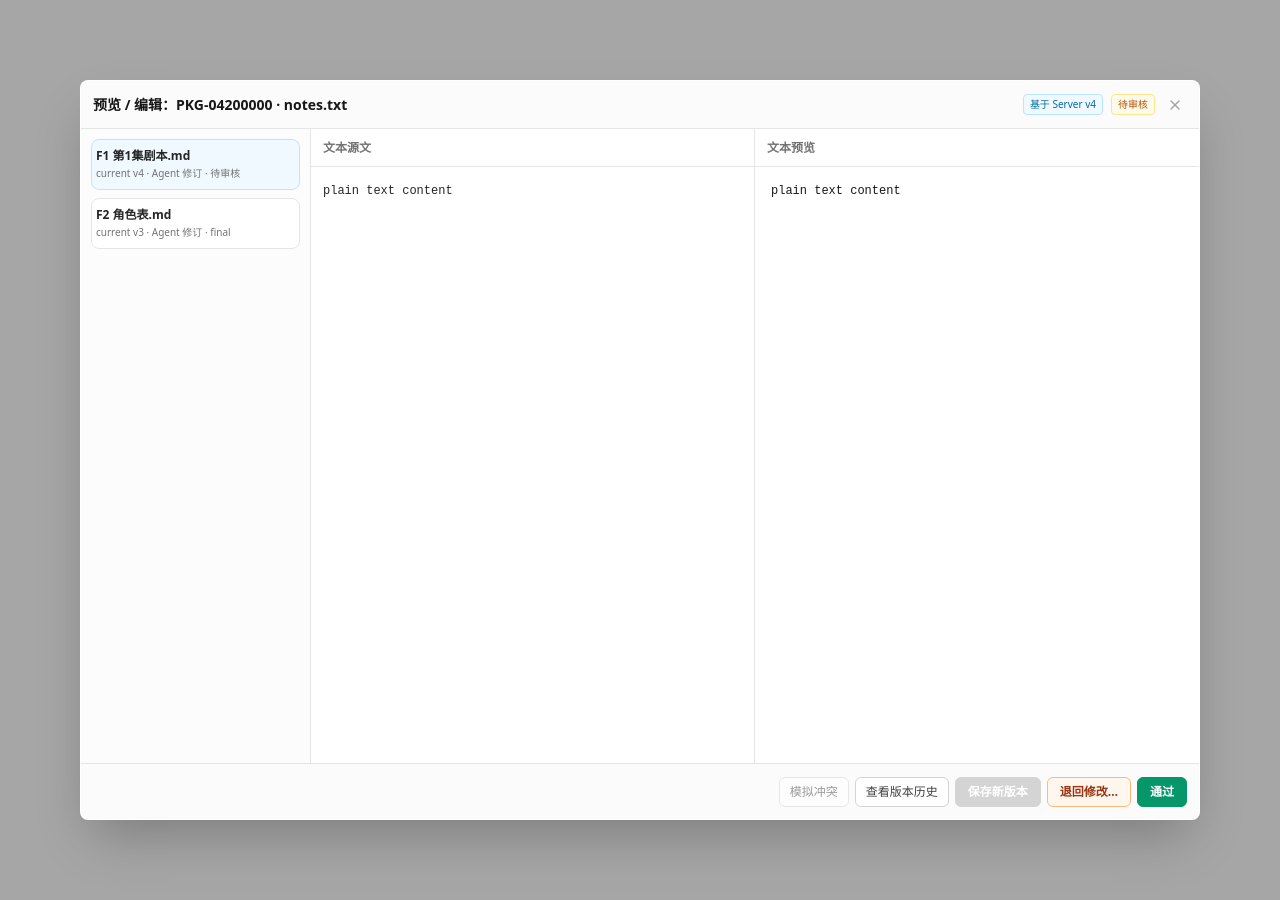
Test: OutputPackagePreviewModal 原型收敛 › 普通文本成员可预览、编辑并显示文本保存入口
Expected: the text box named "文本源文" holds "plain text content", x1=311 y1=167 x2=754 y2=763
Expected: the text "plain text content" is shown, x1=771 y1=184 x2=901 y2=198
Click the button "通过" at (1162, 792), box x1=1137 y1=776 x2=1187 y2=806
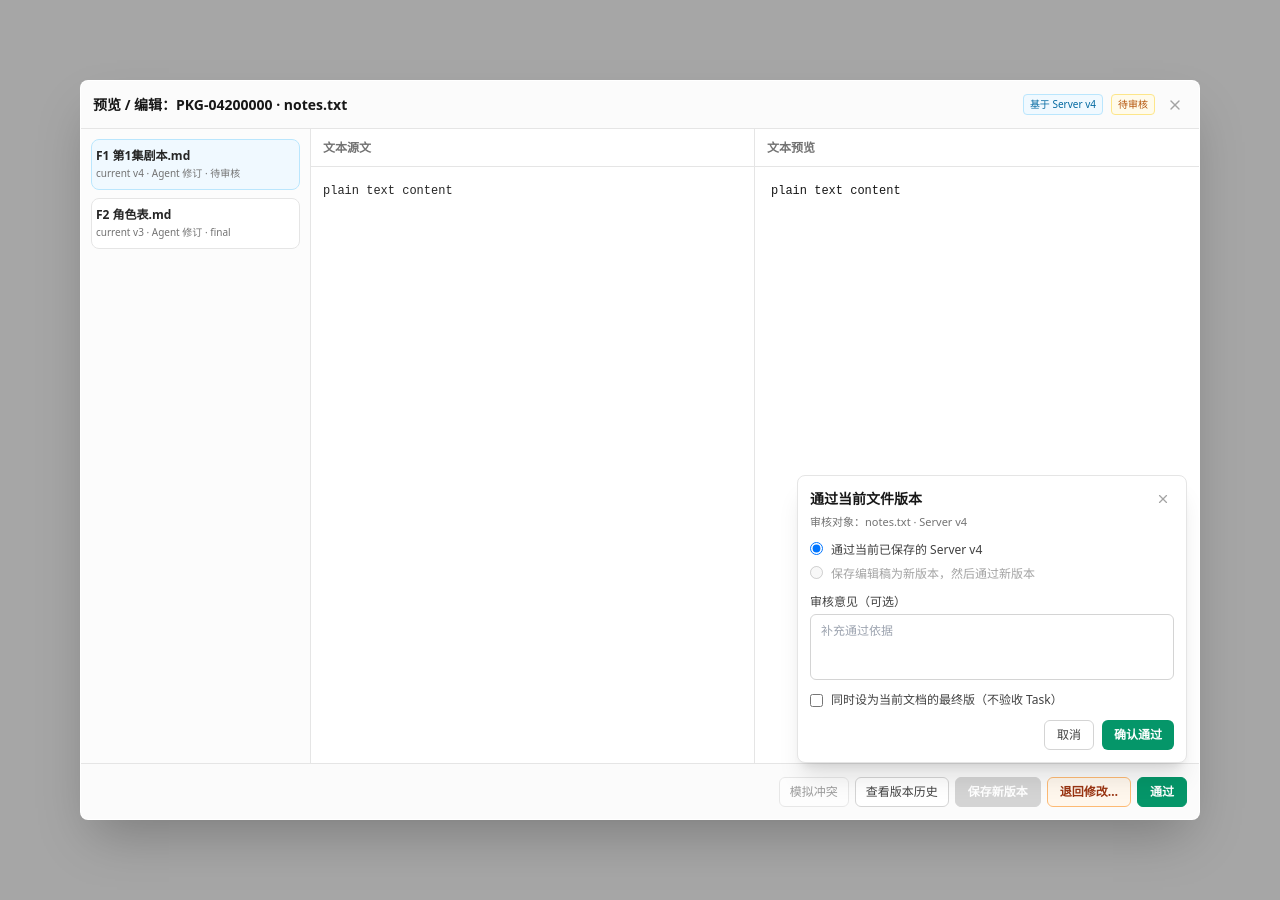
Result: the radio button labelled "通过当前已保存的 Server v4" is shown at x1=810 y1=542 x2=823 y2=555
Result: the radio button labelled "保存编辑稿为新版本，然后通过新版本" is shown at x1=810 y1=566 x2=823 y2=579
